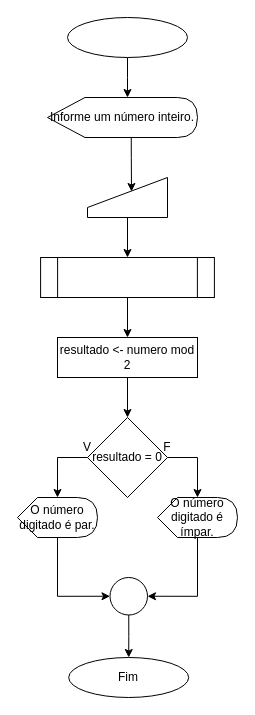
Some shapes in this 255 by 715 pixel diagram are drawn without their labels. The shapes that lost their labels are listed below. From the top down, each one's box as (x1, y1, x2, y2) in pixels, then its label:
(66, 16, 188, 58): Início
(86, 176, 168, 218): numero
(40, 256, 214, 298): validaParImpar( numero )
